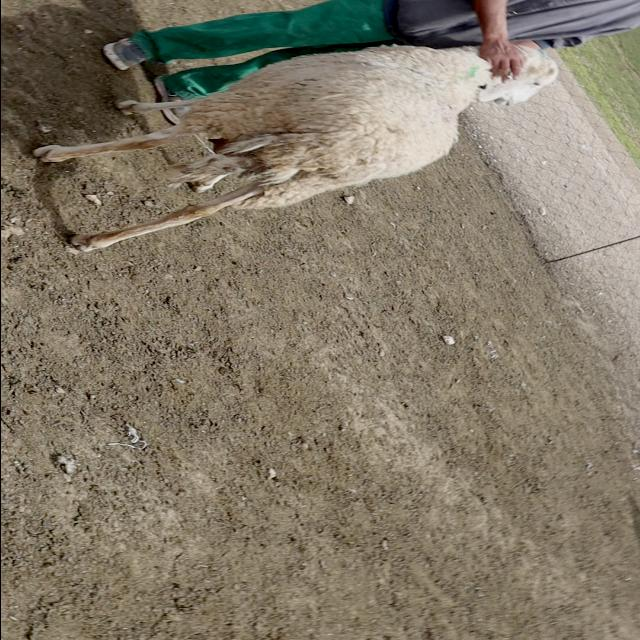Score_4: (33, 46, 558, 254)
